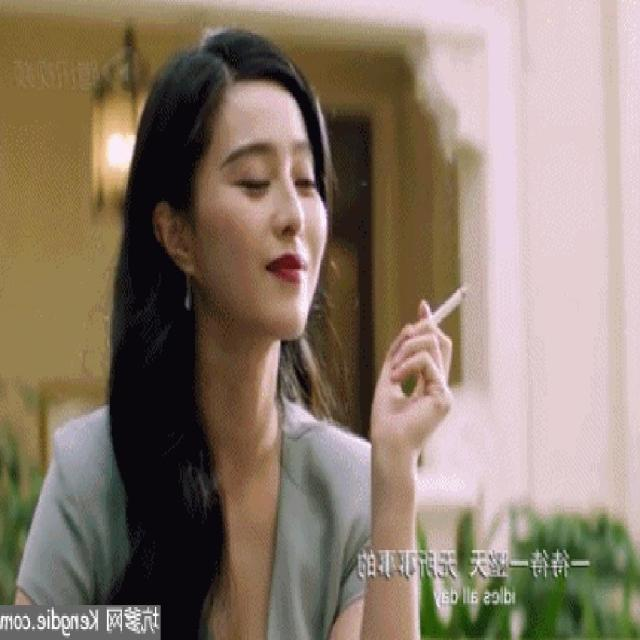smoking: (151, 31, 469, 410)
